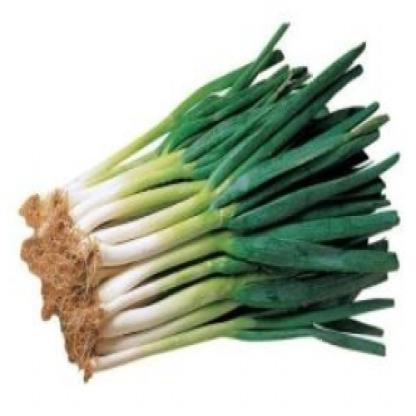green onion: (33, 119, 387, 368)
